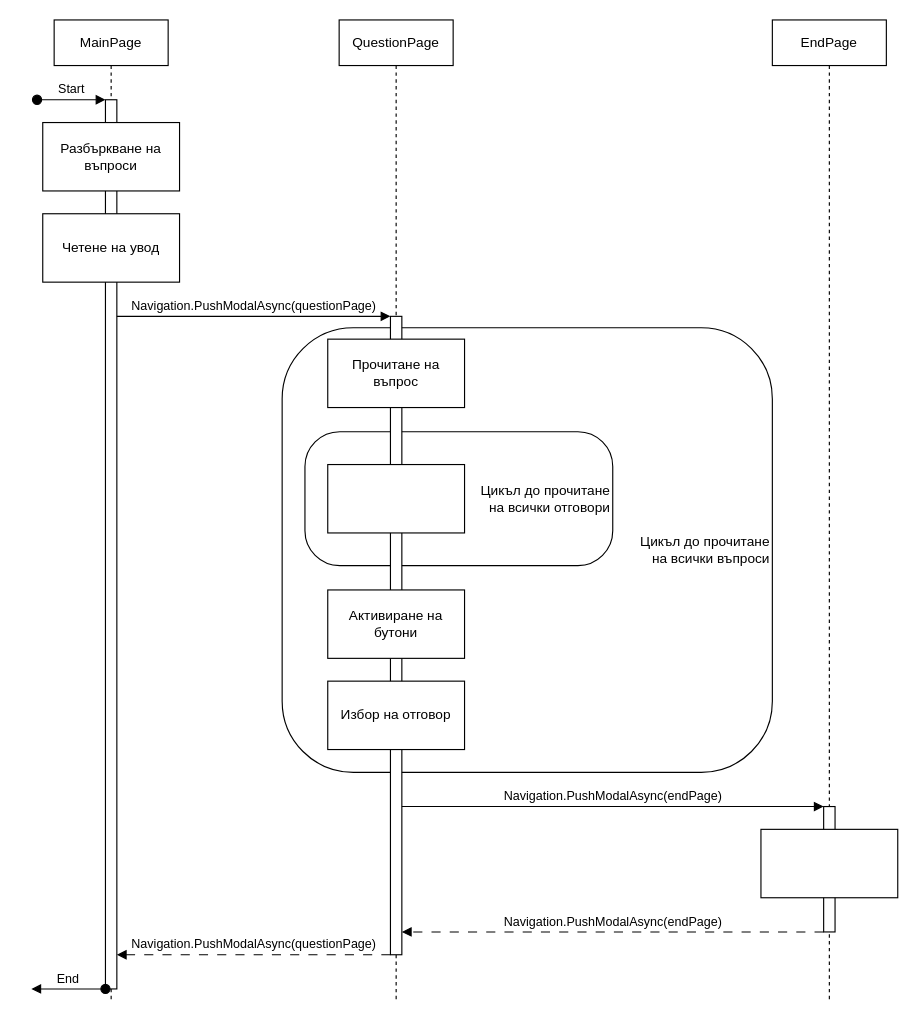
The diagram is 918 pixels wide and 1021 high, and some of its shapes have lost their labels. The shapes that lost their labels are listed below. From the top down, each one's centre as x and y in pixels, then its label:
point 396,498: Прочитане на отговор
point 829,863: Споделяне на резултат
